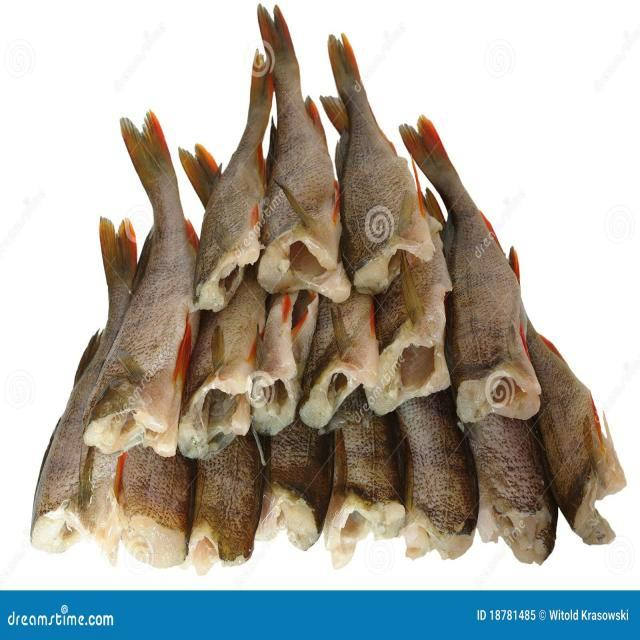fish: (399, 115, 556, 561), (30, 216, 150, 562), (82, 110, 197, 455), (257, 5, 349, 299), (319, 33, 418, 291), (526, 318, 625, 542), (193, 73, 273, 299), (178, 268, 265, 457), (322, 388, 405, 567), (395, 389, 477, 558), (367, 249, 450, 411), (299, 290, 378, 428), (185, 434, 261, 573), (254, 415, 331, 549), (247, 291, 317, 434), (116, 445, 192, 566)
